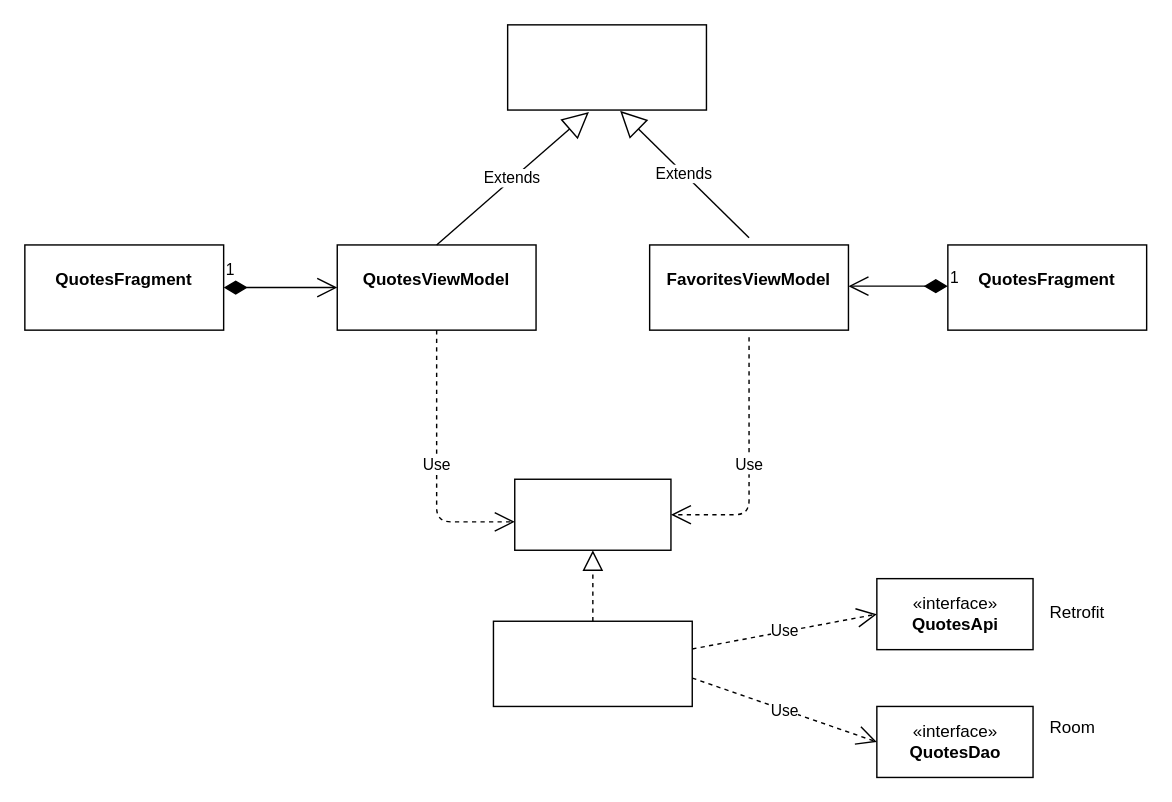
Some shapes in this 1172 by 802 pixel diagram are drawn without their labels. Each missing label, with the centre of its shape:
"BaseViewModel" belongs at (606,66).
"RepositoryImpl" belongs at (592,663).
"«interface» Repository" belongs at (592,514).
